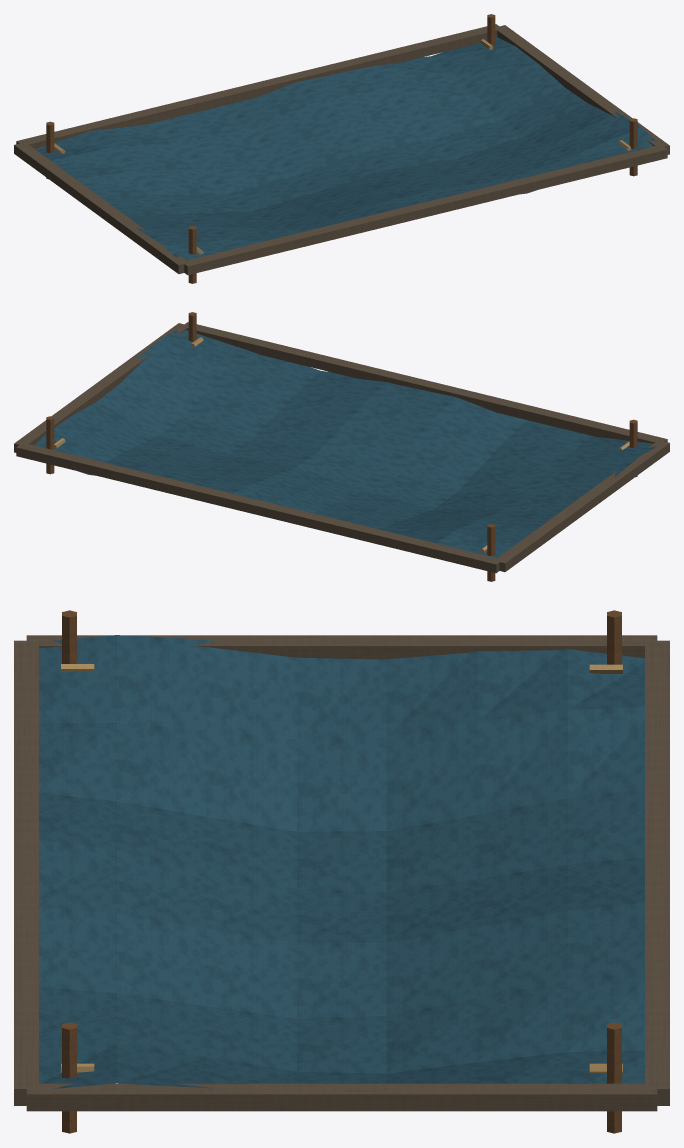
File: en-016_camp_mat_groundsheet__wet.obj
3 views of the same model, one above another, from view 1: azimuth 30°, elevation 25°; view 2: azimuth 150°, elevation 25°; view 3: azimuth 270°, elevation 25° (orthographic). The views are drawn at different scales.
Visible parts, largest first — view 1: en-016_camp_mat_groundsheet__wet; view 2: en-016_camp_mat_groundsheet__wet; view 3: en-016_camp_mat_groundsheet__wet.
Boxes of the visible parts, left/top/right/bottom form: en-016_camp_mat_groundsheet__wet: left=14, top=14, right=669, bottom=283; en-016_camp_mat_groundsheet__wet: left=14, top=312, right=669, bottom=581; en-016_camp_mat_groundsheet__wet: left=14, top=610, right=669, bottom=1133.
Bounding box in the file's own units: 1.51 × 0.1659 × 0.915.
Materials: 4 (4 with a texture image).
